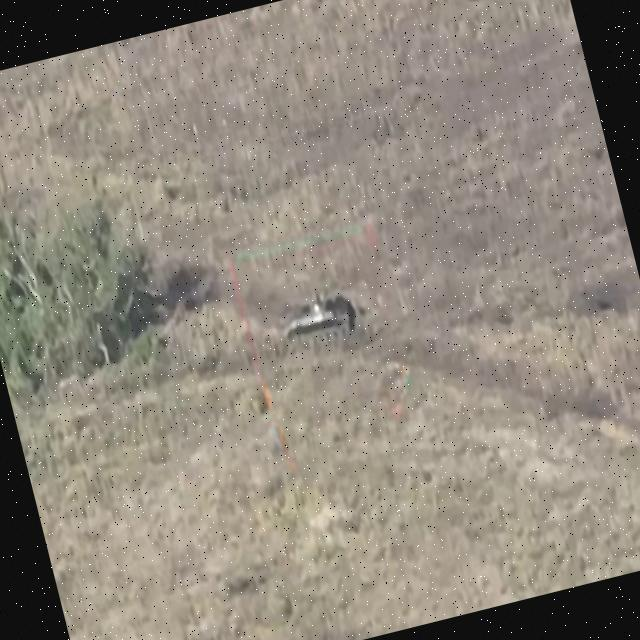AIFV: (268, 284, 362, 364)
